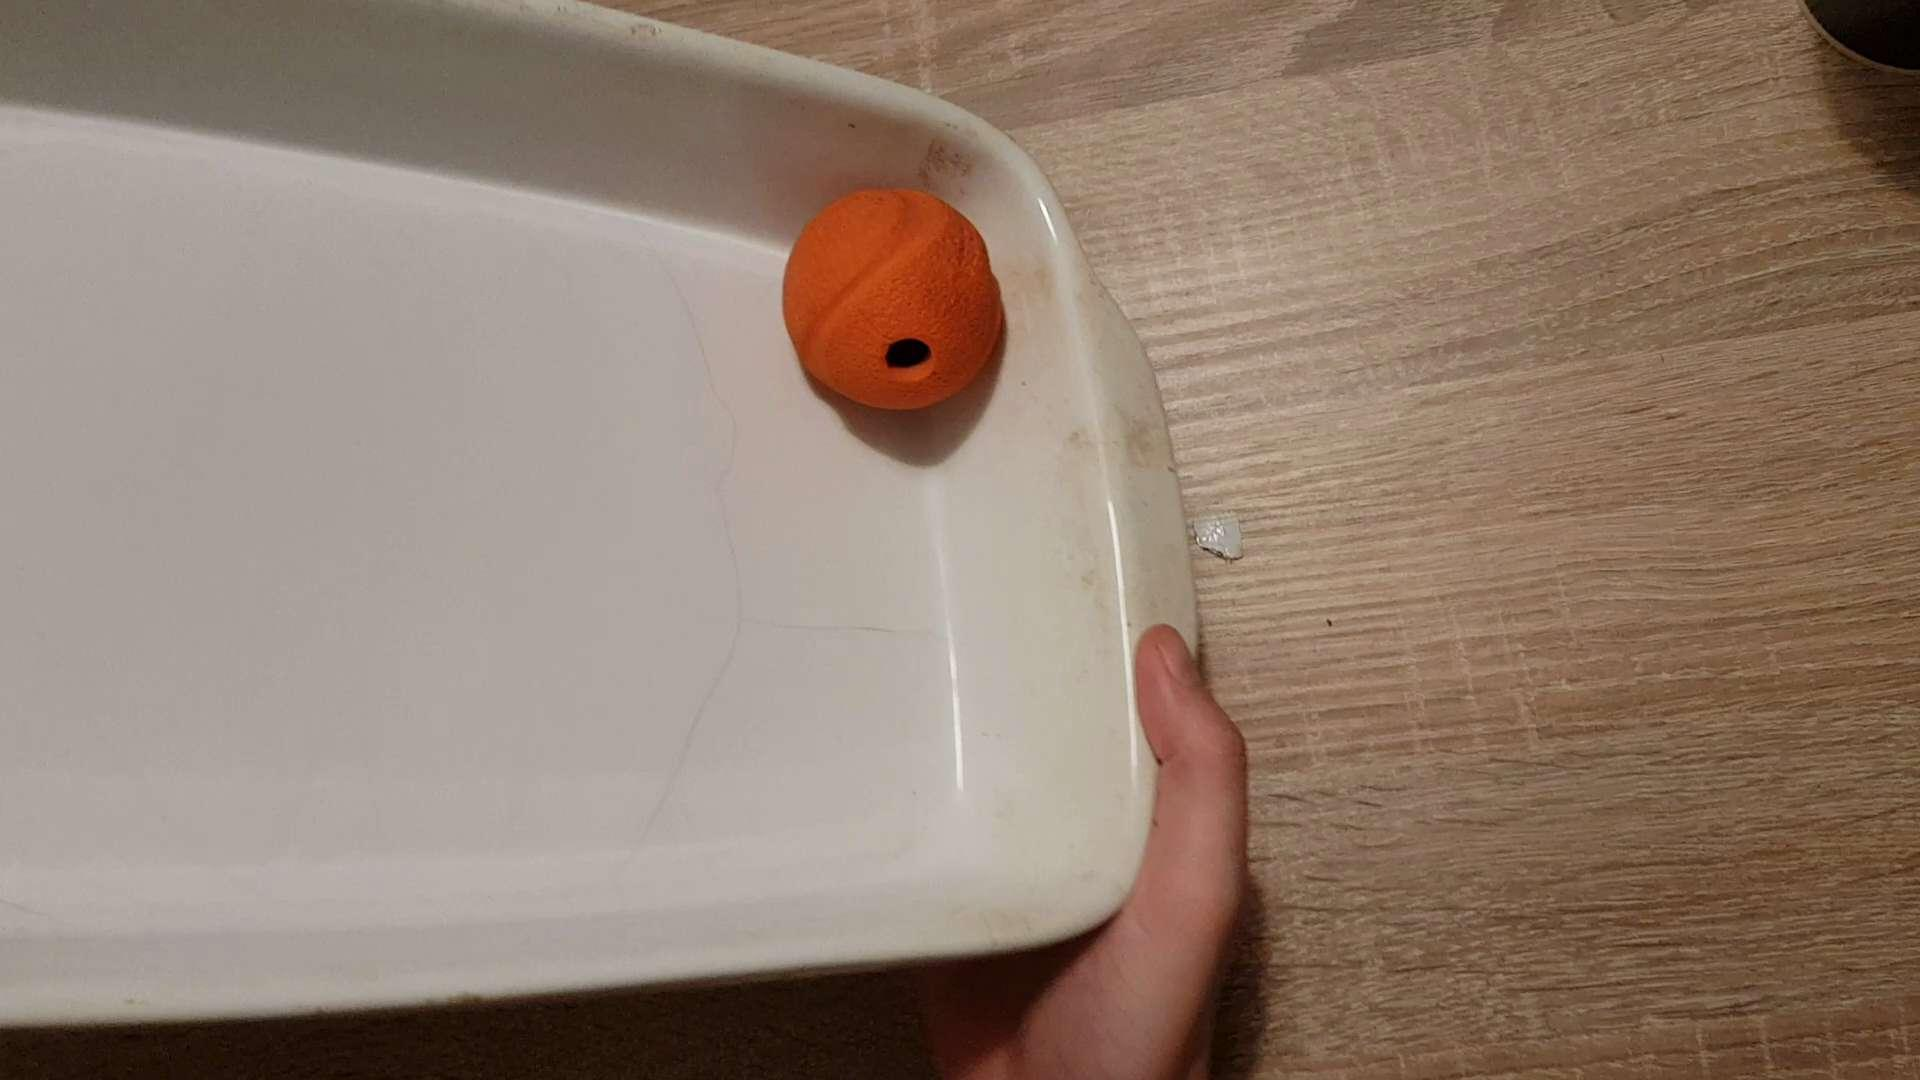sphere: (782, 175, 1005, 415)
